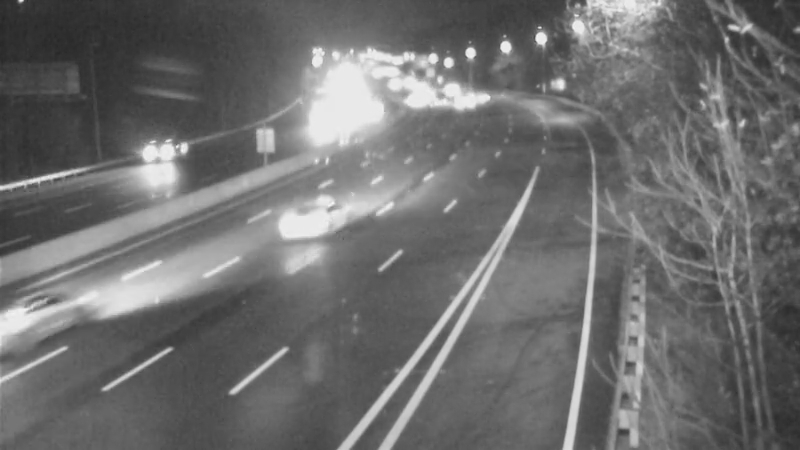vehicle: (1, 263, 93, 373), (256, 185, 336, 265), (114, 114, 194, 194), (426, 63, 476, 113), (393, 67, 443, 117), (463, 74, 513, 124), (436, 78, 486, 128), (299, 101, 349, 151)
